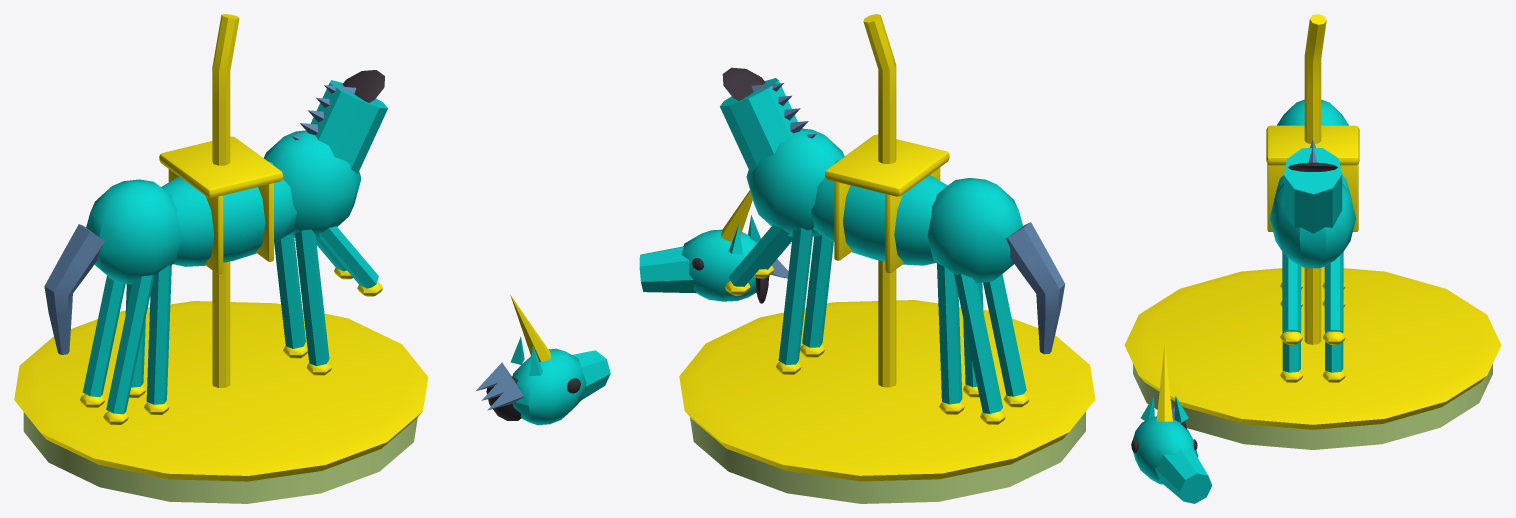
Rendered from TW_HeadlessUnicorn.fbx.
The picture shows the model from 3 angles, left to right: view 1: azimuth 30°, elevation 25°; view 2: azimuth 150°, elevation 25°; view 3: azimuth 270°, elevation 25°; orthographic projection. The views are drawn at different scales.
Visible parts, largest first — view 1: Body, Part_Head; view 2: Body, Part_Head; view 3: Body, Part_Head.
Part boxes in pixels (x1=…): Body: x1=14, y1=14, x2=428, y2=503; Part_Head: x1=475, y1=295, x2=610, y2=425; Body: x1=679, y1=14, x2=1095, y2=503; Part_Head: x1=639, y1=190, x2=788, y2=303; Body: x1=1124, y1=14, x2=1501, y2=449; Part_Head: x1=1131, y1=343, x2=1212, y2=503.
Size of the model in its own units: 4.89 by 3.77 by 3.56.
